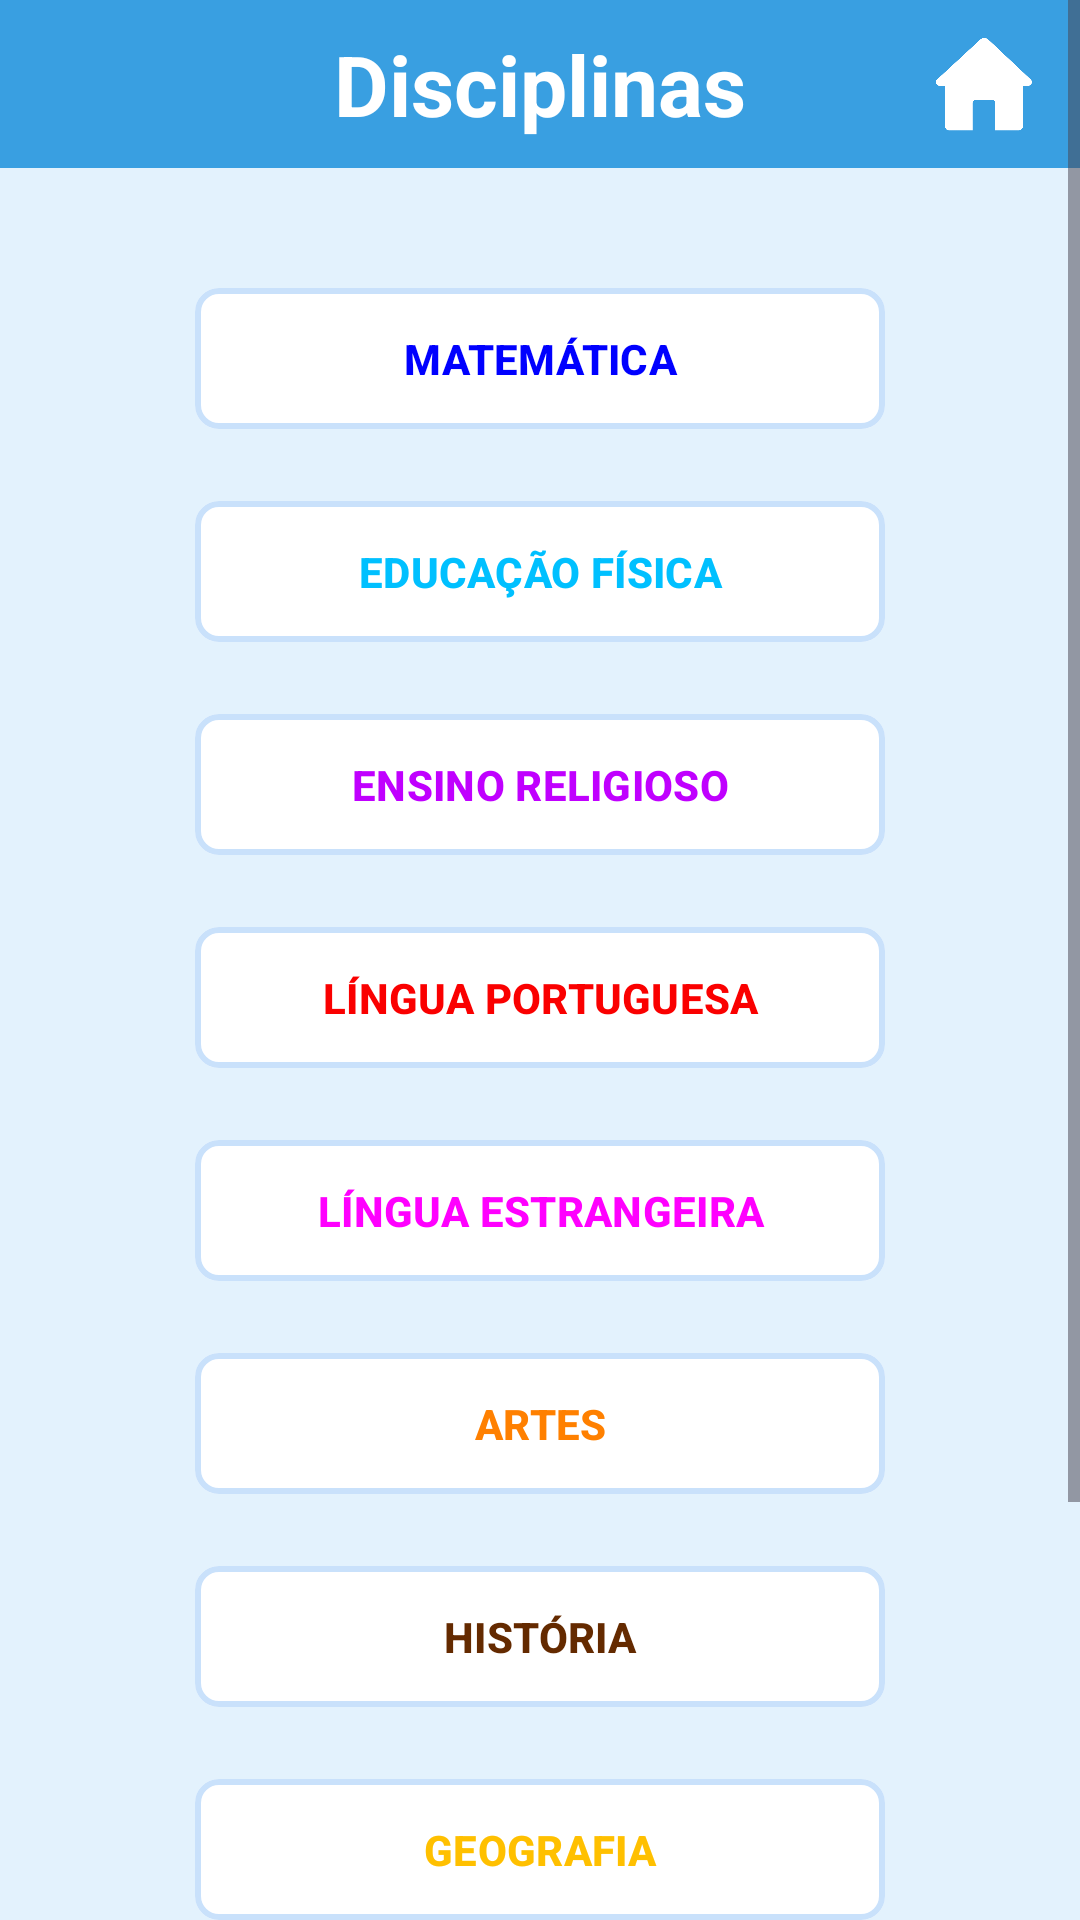

Icons on this 1080×1920 Android screen, each with the point to tap as (x=x, y=y):
Home: (x=984, y=84)
